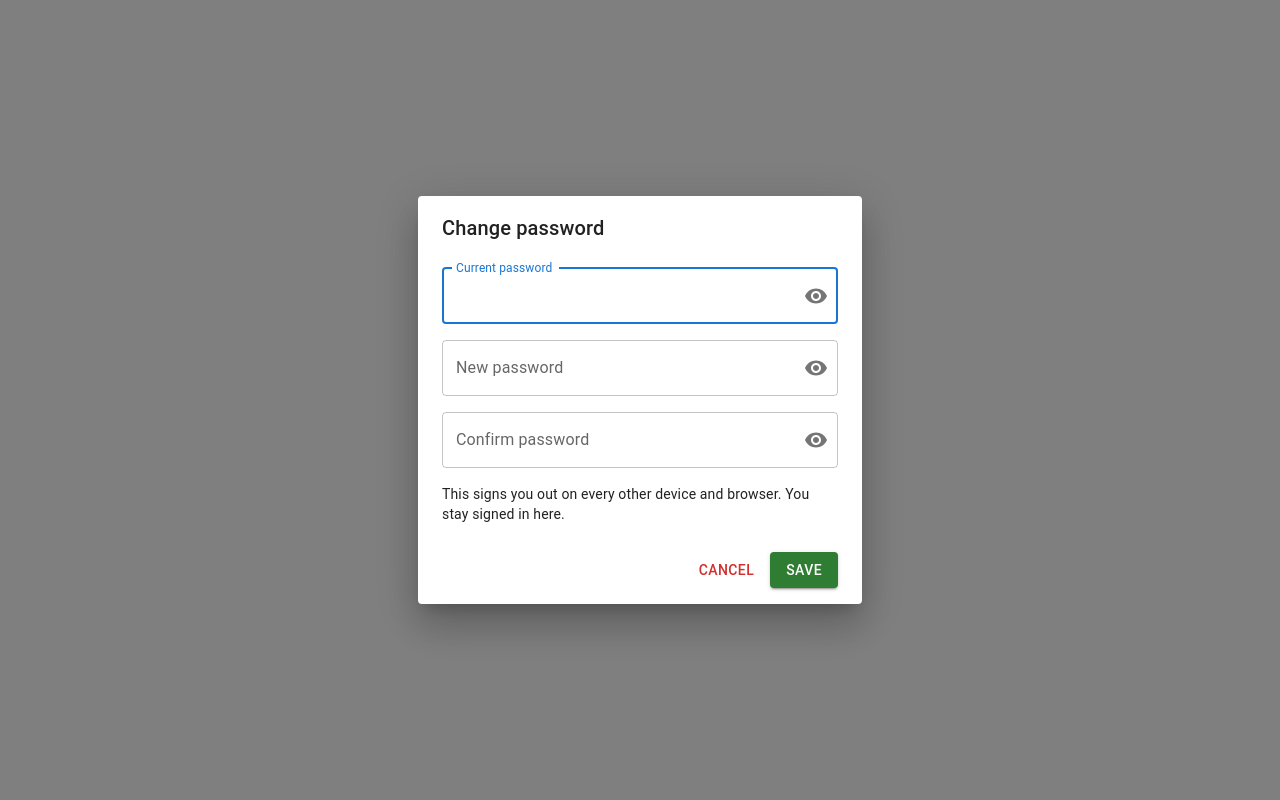
Scenario: ChangePasswordDialog › shows or hides each password with its own button, named for its field and what it'll do
Click the button named "Show the current password": (816, 296) [796,276,836,316]
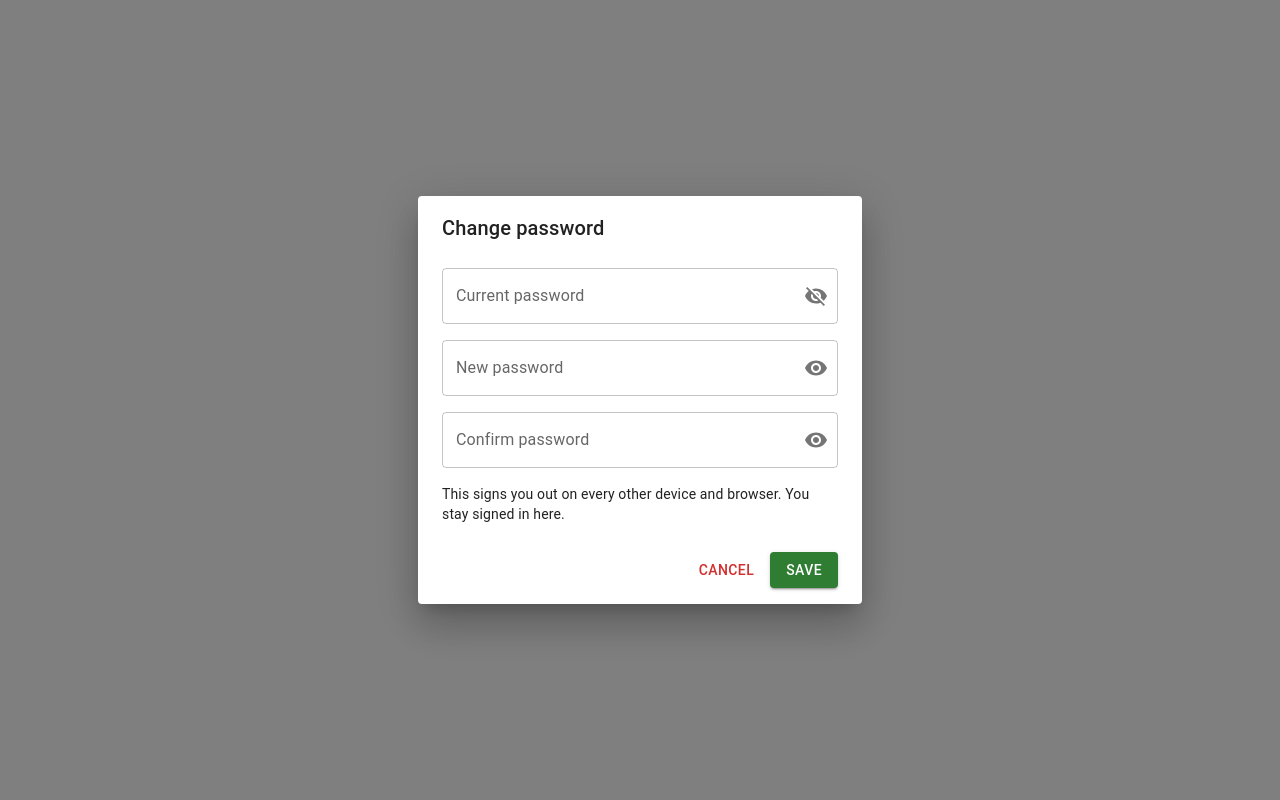
Click the button named "Hide the current password": (816, 296) [796,276,836,316]
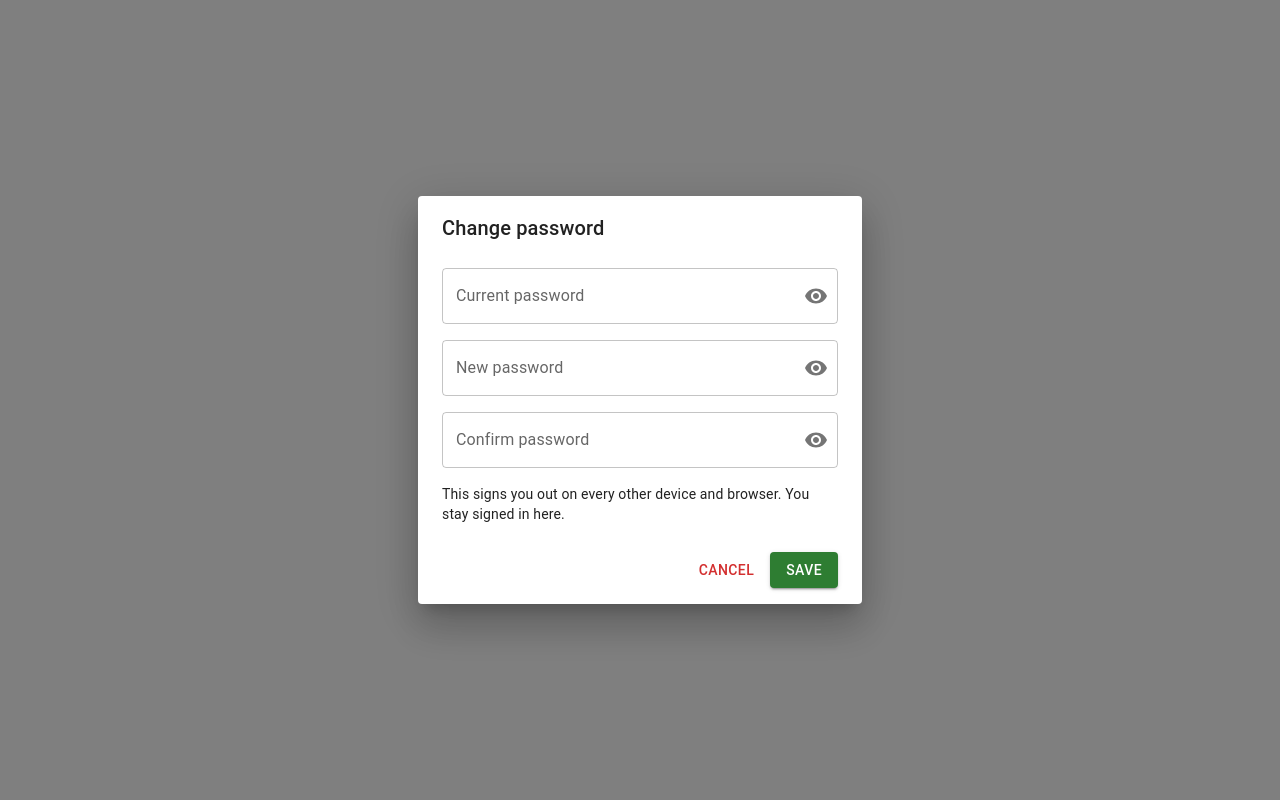
Expected: the button named "Show the current password" is shown, [796,276,836,316]
